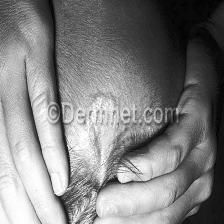Benign Marking or Mole: (88, 94, 124, 180)
